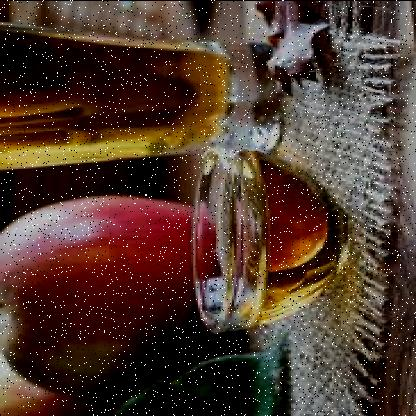apple: (2, 194, 211, 392)
